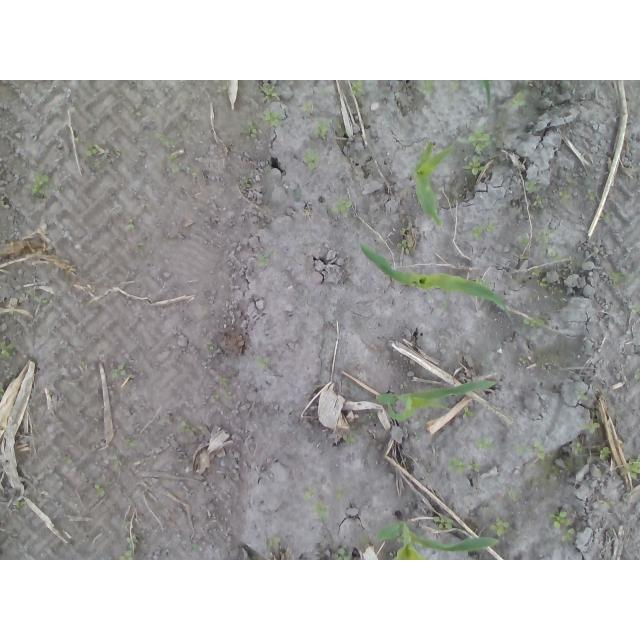Maize: (361, 240, 510, 313), (377, 516, 499, 561), (375, 379, 497, 421), (409, 140, 456, 229), (480, 80, 493, 109)
Weeds: (462, 128, 492, 176), (548, 509, 576, 544), (261, 85, 282, 127), (537, 226, 561, 262), (514, 443, 547, 462), (30, 169, 51, 196), (446, 456, 479, 473), (330, 197, 354, 220), (117, 536, 139, 561), (526, 179, 546, 206), (609, 270, 640, 287), (517, 316, 544, 335), (488, 516, 512, 537), (472, 223, 496, 242), (0, 335, 16, 362), (312, 499, 331, 521), (313, 119, 335, 138), (510, 87, 528, 110), (155, 133, 175, 153), (302, 150, 322, 170), (531, 268, 549, 289), (626, 456, 640, 480), (432, 514, 453, 529), (111, 363, 129, 380), (347, 80, 365, 96), (447, 80, 459, 104), (558, 189, 574, 207), (335, 544, 351, 561), (417, 80, 434, 96), (577, 422, 599, 434), (243, 120, 258, 137), (167, 155, 178, 177), (397, 239, 412, 254), (341, 432, 357, 446), (264, 536, 280, 550), (475, 437, 495, 448), (255, 355, 270, 369), (575, 389, 590, 403), (503, 488, 518, 502), (94, 484, 107, 499), (178, 422, 194, 434), (304, 482, 316, 498), (113, 450, 122, 471), (32, 295, 49, 306), (256, 254, 269, 268), (573, 441, 584, 456), (462, 406, 475, 418), (87, 143, 98, 157), (512, 252, 529, 261), (135, 242, 145, 257), (122, 438, 135, 449), (601, 500, 616, 509), (584, 190, 596, 200), (599, 447, 609, 459), (520, 354, 529, 367), (633, 366, 640, 382), (626, 304, 640, 312), (218, 377, 229, 387), (336, 487, 347, 497), (519, 237, 529, 247), (304, 102, 313, 113), (209, 339, 216, 353), (191, 542, 200, 552), (239, 175, 249, 183), (553, 458, 562, 466), (15, 501, 21, 512), (128, 222, 136, 230), (0, 385, 4, 399), (366, 411, 375, 417), (352, 248, 357, 256)
